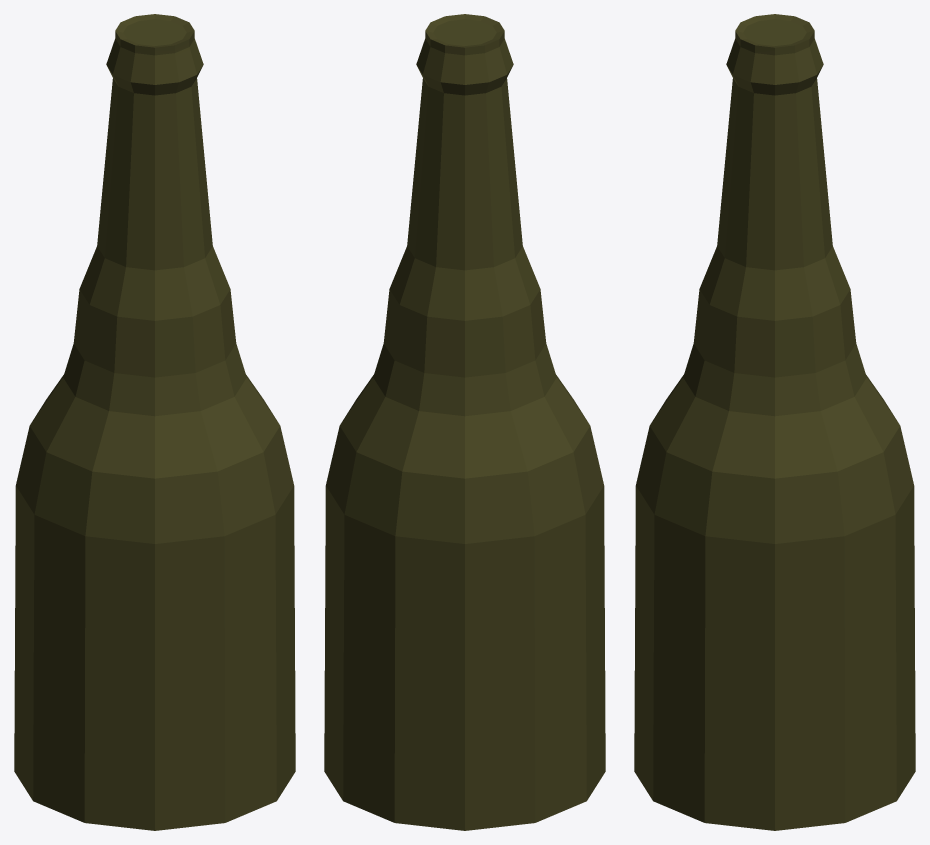
Rendered from bottle.fbx.
The picture shows the model from 3 angles, left to right: view 1: azimuth 30°, elevation 25°; view 2: azimuth 150°, elevation 25°; view 3: azimuth 270°, elevation 25°; orthographic projection.
Parts seen in each view (by area): view 1: Cylinder; view 2: Cylinder; view 3: Cylinder.
Boxes of the visible parts, x1,y1,x2,y2 form: Cylinder: [14, 14, 295, 830]; Cylinder: [324, 14, 605, 830]; Cylinder: [634, 14, 915, 830].
Size of the model in its own units: 140 by 406 by 140.
